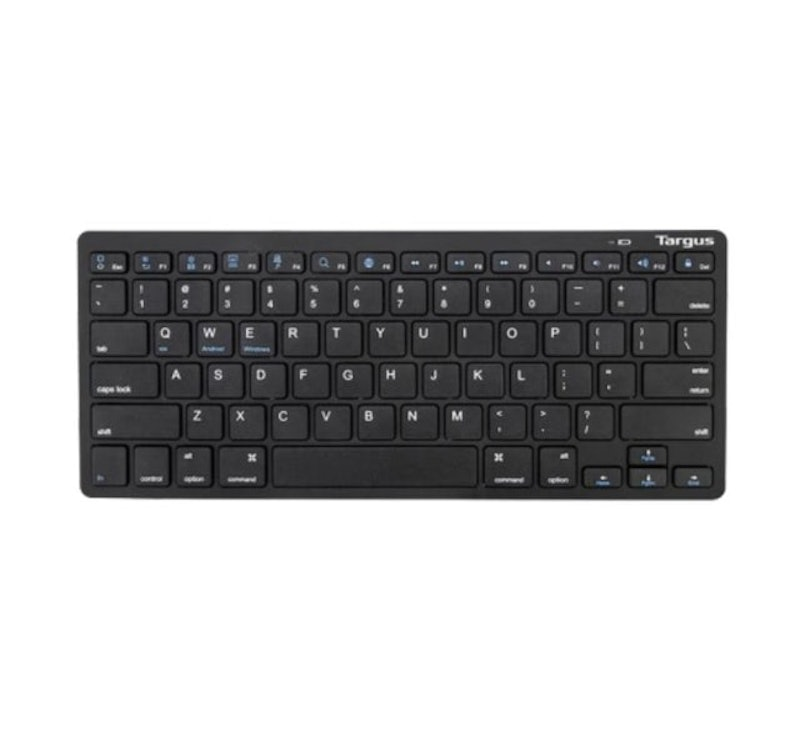glass: (61, 205, 745, 525)
keyboard: (67, 206, 743, 514)
